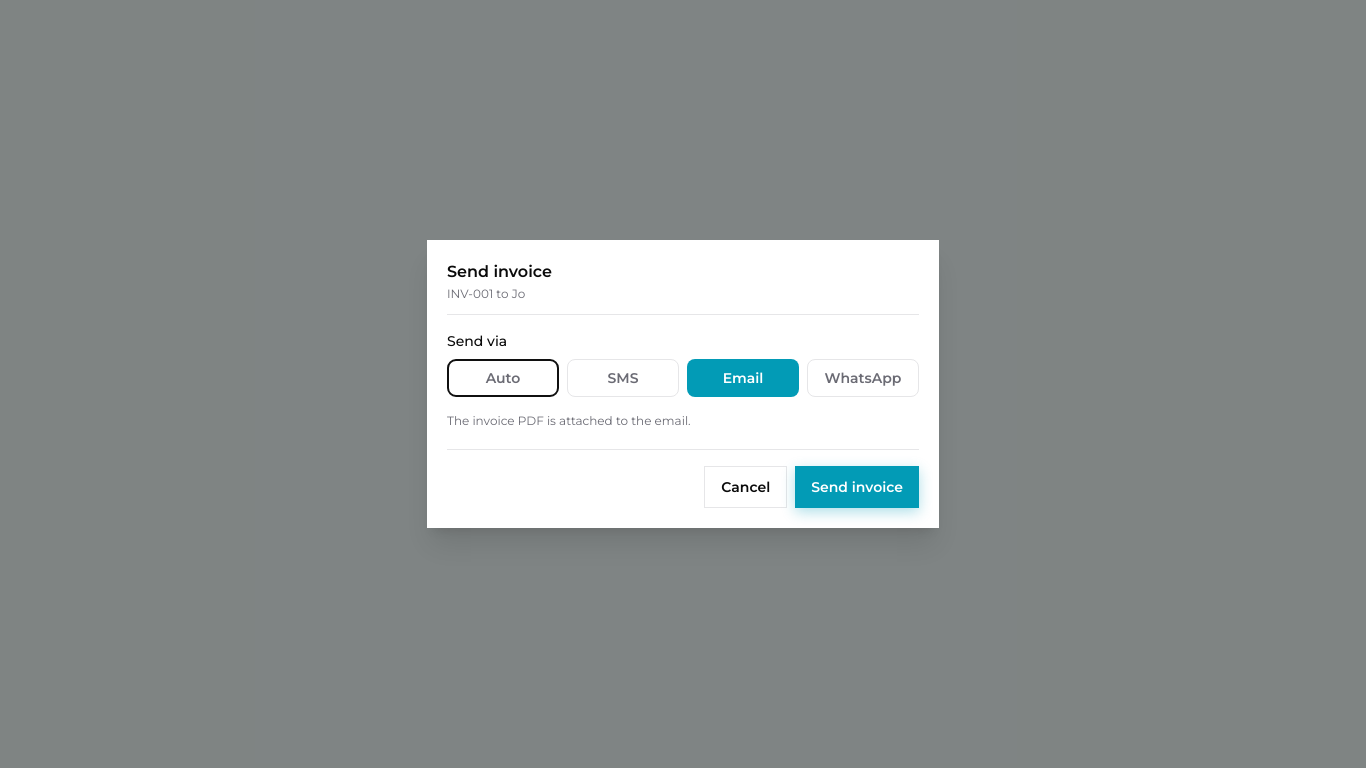
Test: SendInvoiceModal (GAP-034) › offers "Send again" on INVOICE_ALREADY_SENT and resends
The image size is (1366, 768).
Click the button "Send invoice".
click(857, 487)  # box [795,466,919,508]
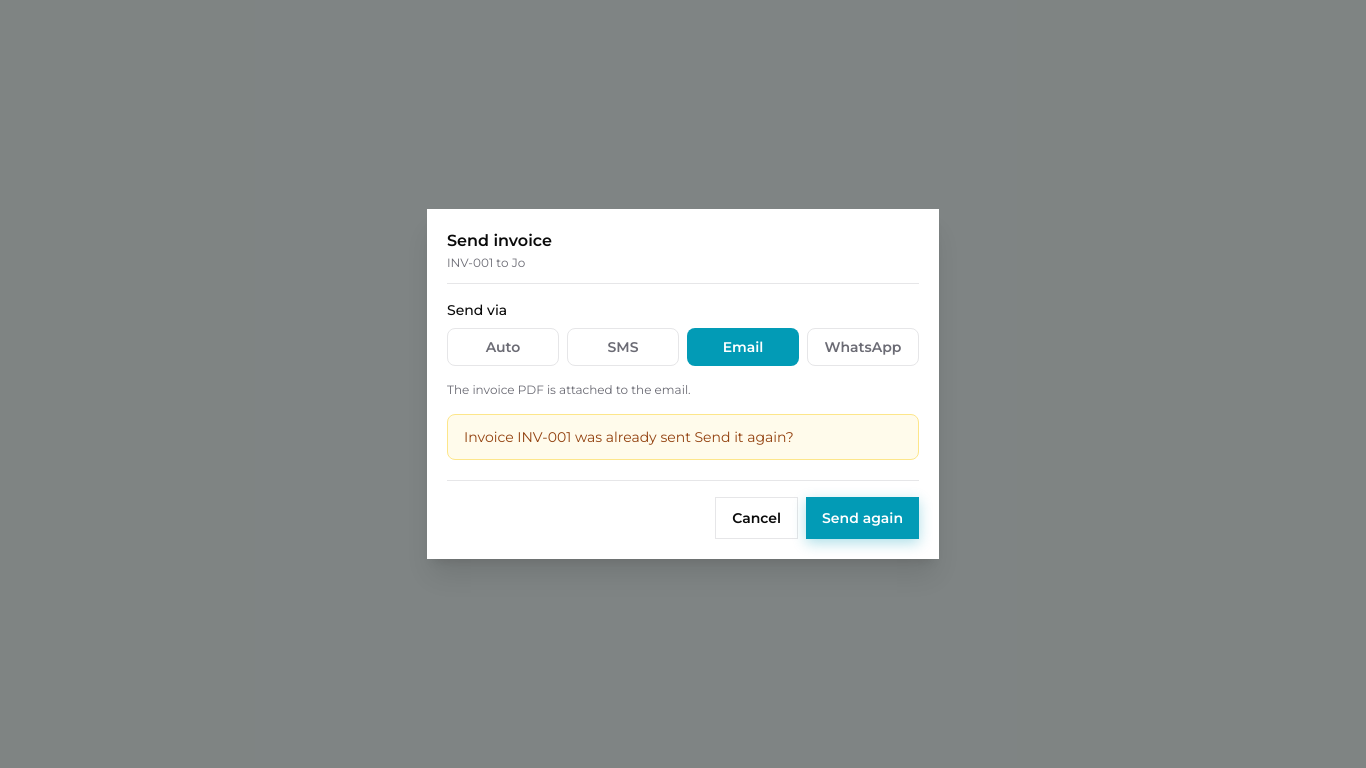
Check: the text "Invoice INV-001 was already sent Send it again?" is shown, box [447,414,919,460]
Click the button "Send again".
click(862, 518)  # box [806,497,919,539]
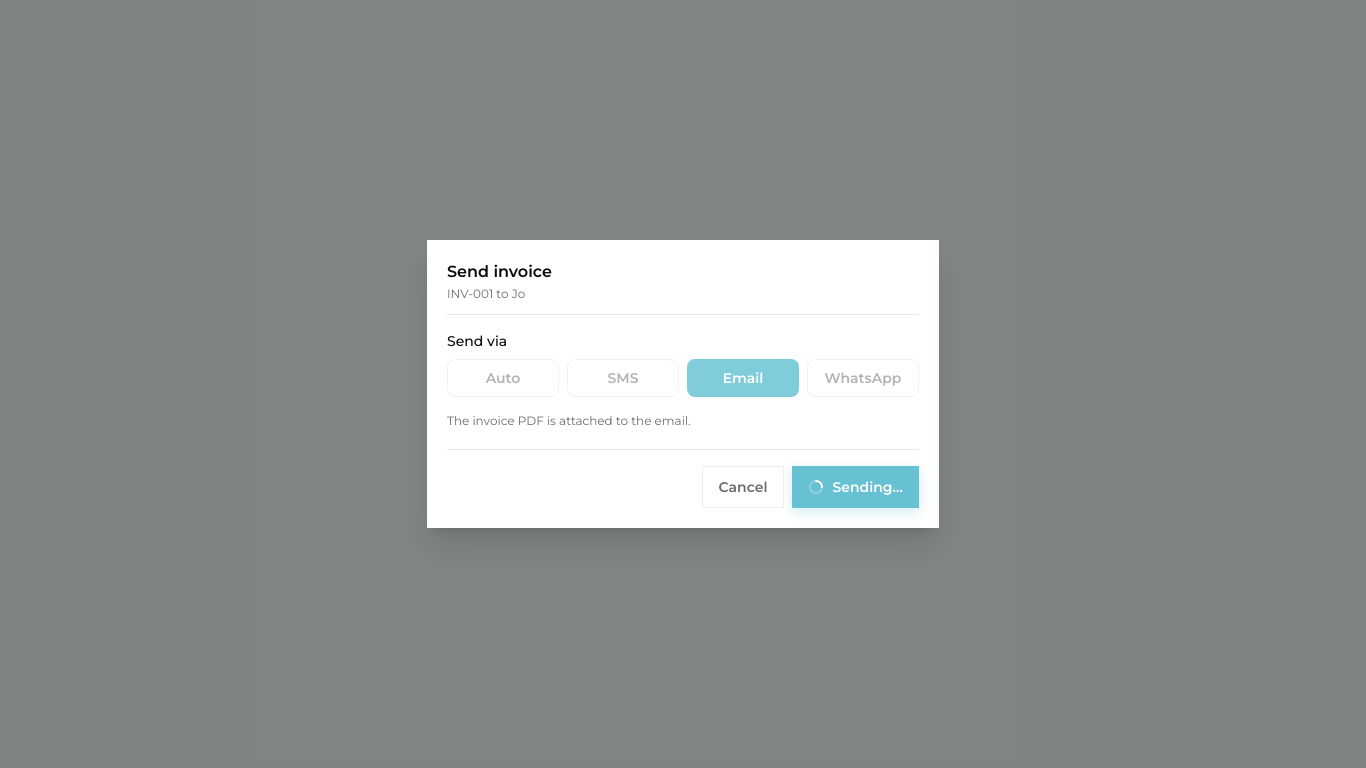
Check: the button "Sending…" is shown, box [792,466,919,508]
Press Escape
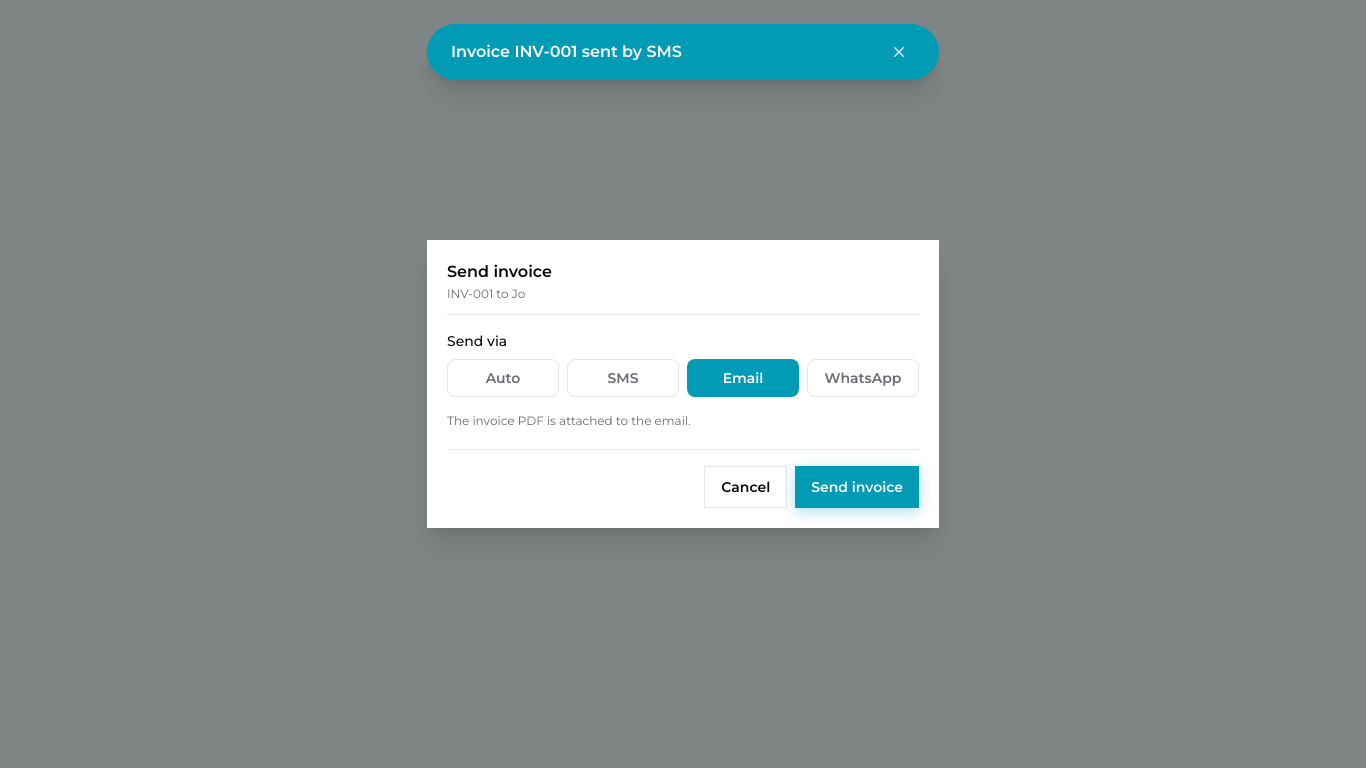
Check: the text "Invoice INV-001 sent by SMS" is shown, box [451,40,682,64]
